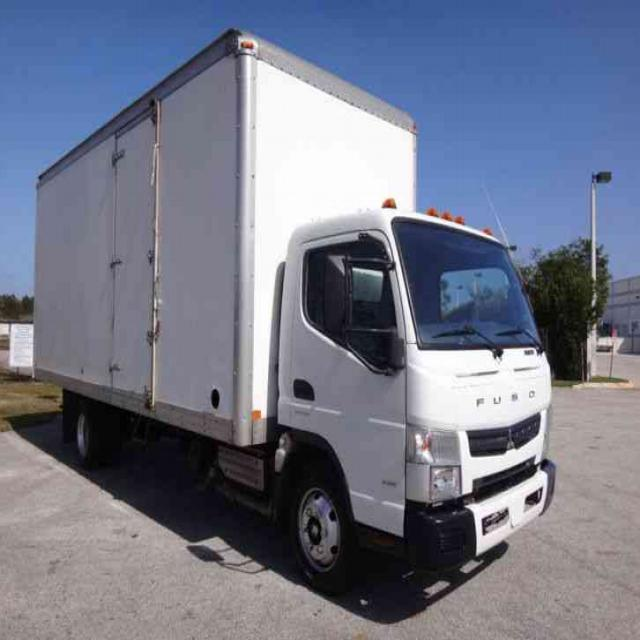truck: (32, 27, 556, 586)
